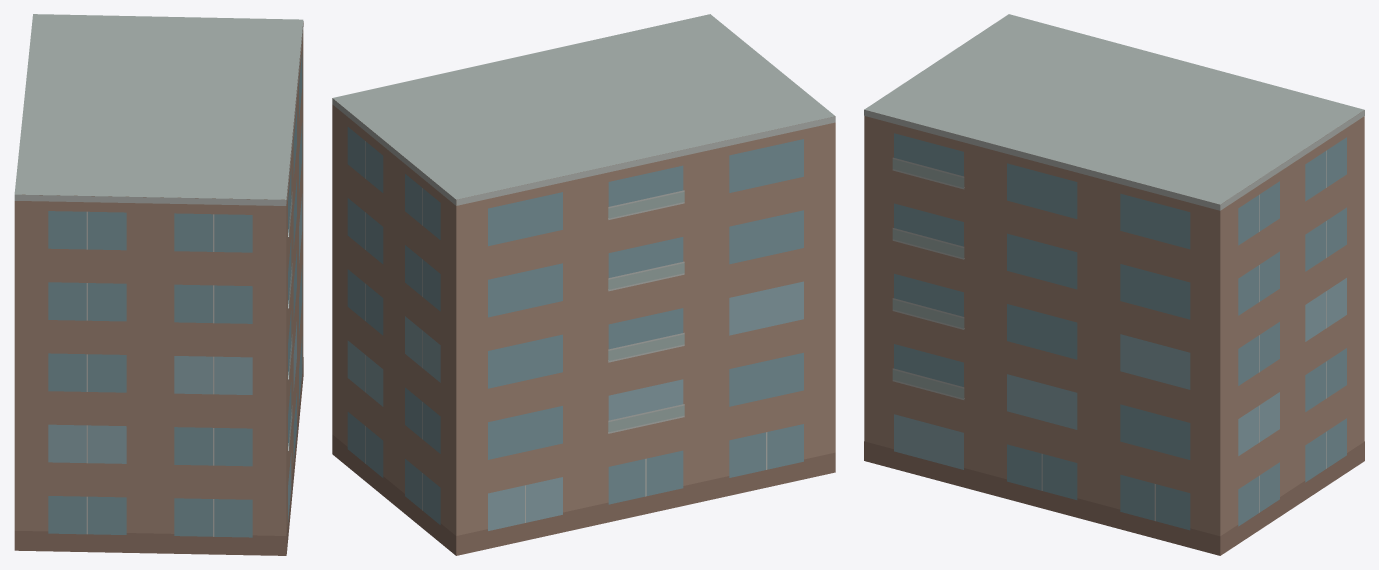
Rendered from survey-upis-33022172.glb.
3 renders of one model, left to right at view 1: azimuth 30°, elevation 25°; view 2: azimuth 150°, elevation 25°; view 3: azimuth 270°, elevation 25°, orthographic.
Parts seen in each view (by area): view 1: survey-upis-33022172.tmp; view 2: survey-upis-33022172.tmp; view 3: survey-upis-33022172.tmp.
Part boxes in pixels (x1,y1,x2,y2): survey-upis-33022172.tmp: (14,14,303,555); survey-upis-33022172.tmp: (332,14,835,555); survey-upis-33022172.tmp: (864,14,1364,555).
Bounding box in the file's own units: 16.19 × 13.9 × 17.96.
